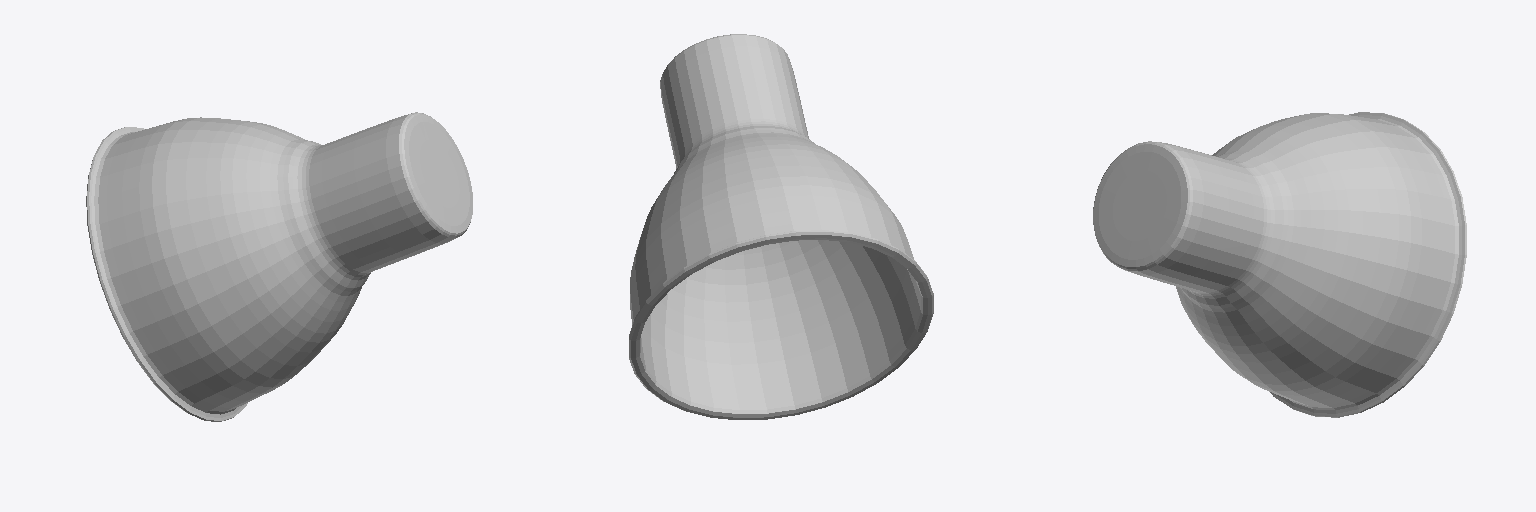
The model's file is Hektar_lamp_shade.obj.
3 renders of one model, left to right at view 1: azimuth 30°, elevation 25°; view 2: azimuth 150°, elevation 25°; view 3: azimuth 270°, elevation 25°, orthographic.
Visible parts, largest first — view 1: Circle.030; view 2: Circle.030; view 3: Circle.030.
Boxes of the visible parts, x1,y1,x2,y2 form: Circle.030: [86, 112, 472, 421]; Circle.030: [629, 34, 933, 419]; Circle.030: [1093, 112, 1466, 417].
Size of the model in its own units: 0.3007 by 0.2852 by 0.3086.